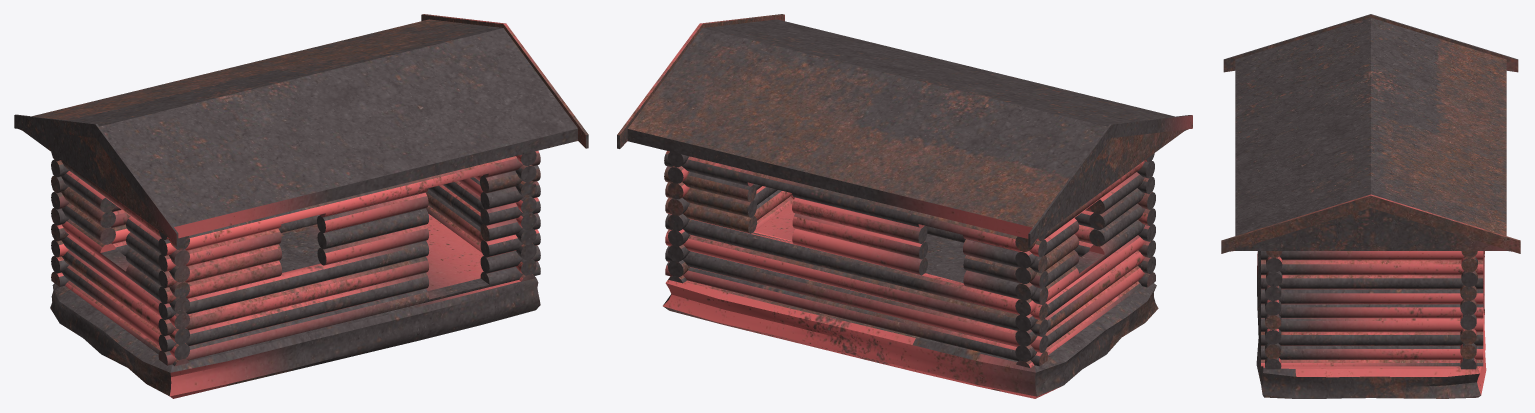
The model's file is wintercabin.obj.
The picture shows the model from 3 angles, left to right: view 1: azimuth 30°, elevation 25°; view 2: azimuth 150°, elevation 25°; view 3: azimuth 270°, elevation 25°; orthographic projection. The views are drawn at different scales.
Visible parts, largest first — view 1: Cube_DefaultMaterial_0; view 2: Cube_DefaultMaterial_0; view 3: Cube_DefaultMaterial_0.
Part boxes in pixels (x1,y1,x2,y2): Cube_DefaultMaterial_0: [14, 14, 588, 398]; Cube_DefaultMaterial_0: [617, 14, 1192, 398]; Cube_DefaultMaterial_0: [1221, 14, 1520, 398].
Size of the model in its own units: 305 by 169 by 212.
